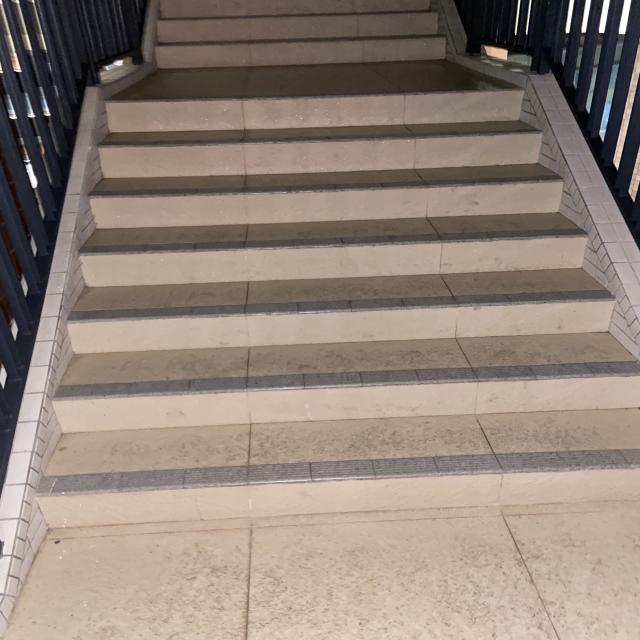Stairs: (30, 283, 640, 511), (43, 85, 640, 290), (119, 0, 486, 75)
